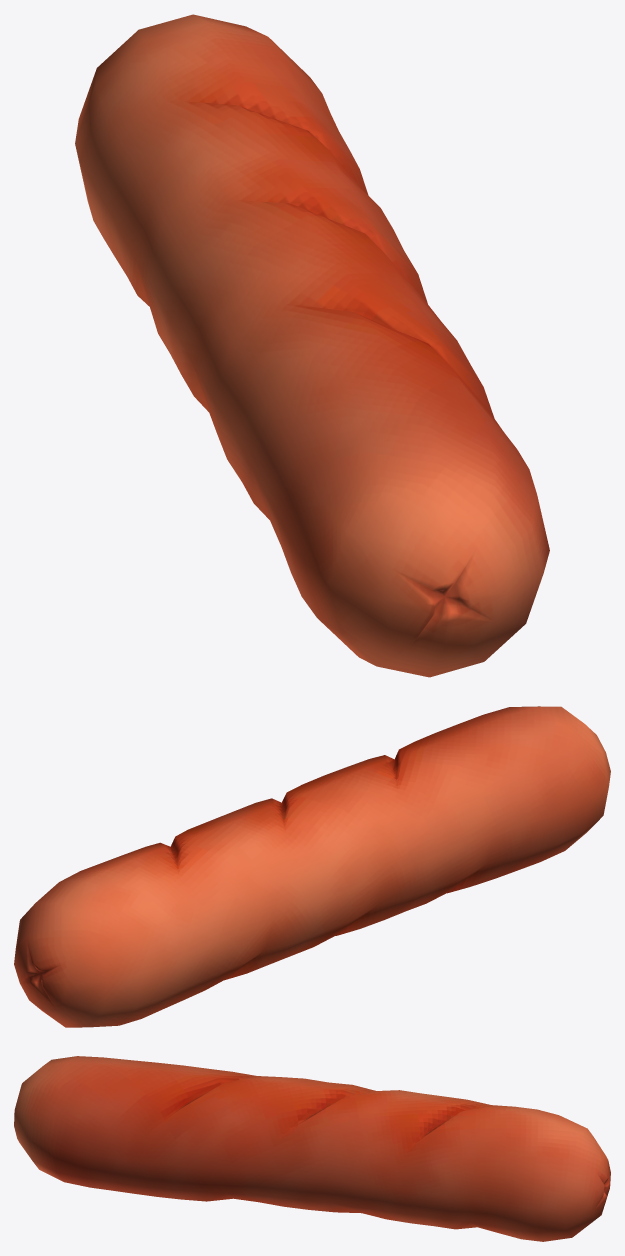
The model's file is ref_bbqhotdog.glb.
The picture shows the model from 3 angles, top to bottom: view 1: azimuth 30°, elevation 25°; view 2: azimuth 150°, elevation 25°; view 3: azimuth 270°, elevation 25°; orthographic projection. The views are drawn at different scales.
Parts seen in each view (by area): view 1: ref_bbqhotdog; view 2: ref_bbqhotdog; view 3: ref_bbqhotdog.
Boxes of the visible parts, x1,y1,x2,y2 form: ref_bbqhotdog: (75,14,549,677); ref_bbqhotdog: (14,706,610,1027); ref_bbqhotdog: (14,1056,610,1241).
Bounding box in the file's own units: 0.4516 × 0.2255 × 1.
1 material, 1 textured.
